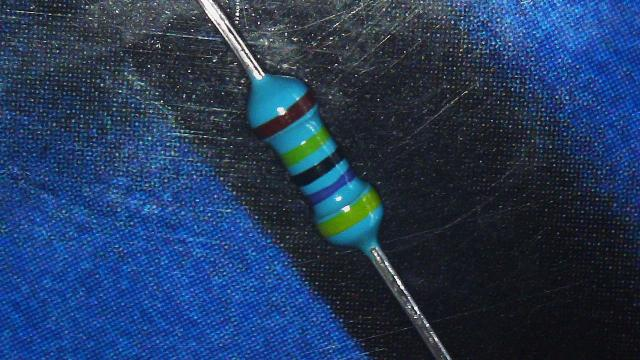black: (291, 150, 344, 187)
brown: (252, 90, 316, 139)
resistor: (226, 63, 388, 254)
violet: (306, 168, 358, 206)
yellow: (316, 188, 380, 236), (280, 127, 329, 166)
